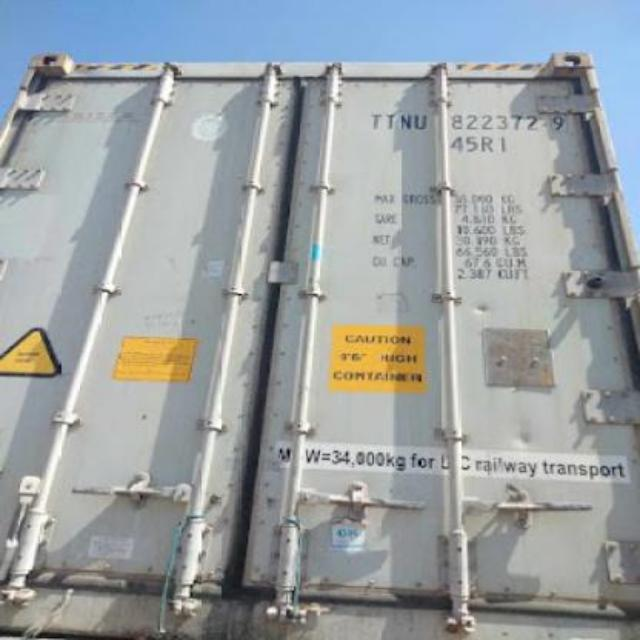2: (522, 106, 542, 136), (464, 111, 480, 131), (481, 111, 494, 132)
3: (494, 111, 508, 132)
7: (510, 108, 526, 132)
8: (446, 111, 464, 131)
9: (548, 112, 568, 134)
N: (394, 108, 414, 136)
T: (368, 105, 384, 134), (384, 108, 396, 136)
U: (414, 108, 430, 136)
